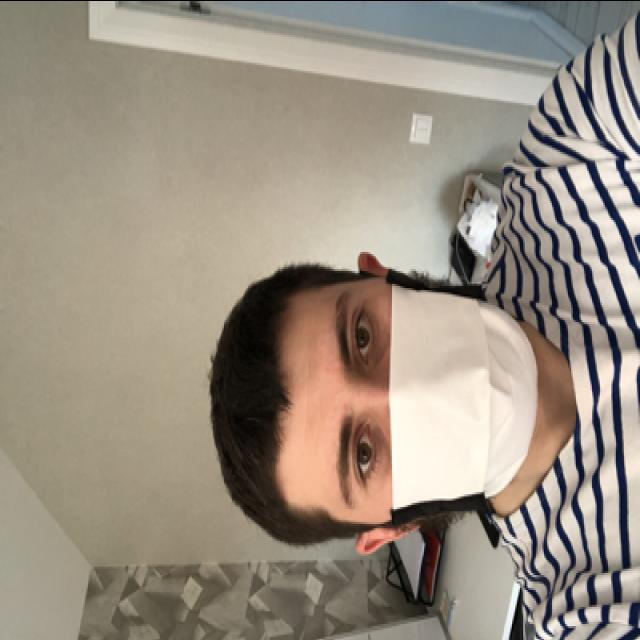mask: (316, 276, 538, 532)
